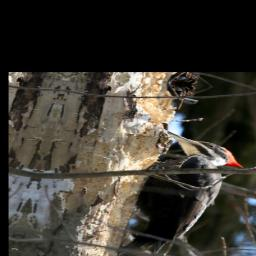Woodpecker: (113, 129, 253, 256)
